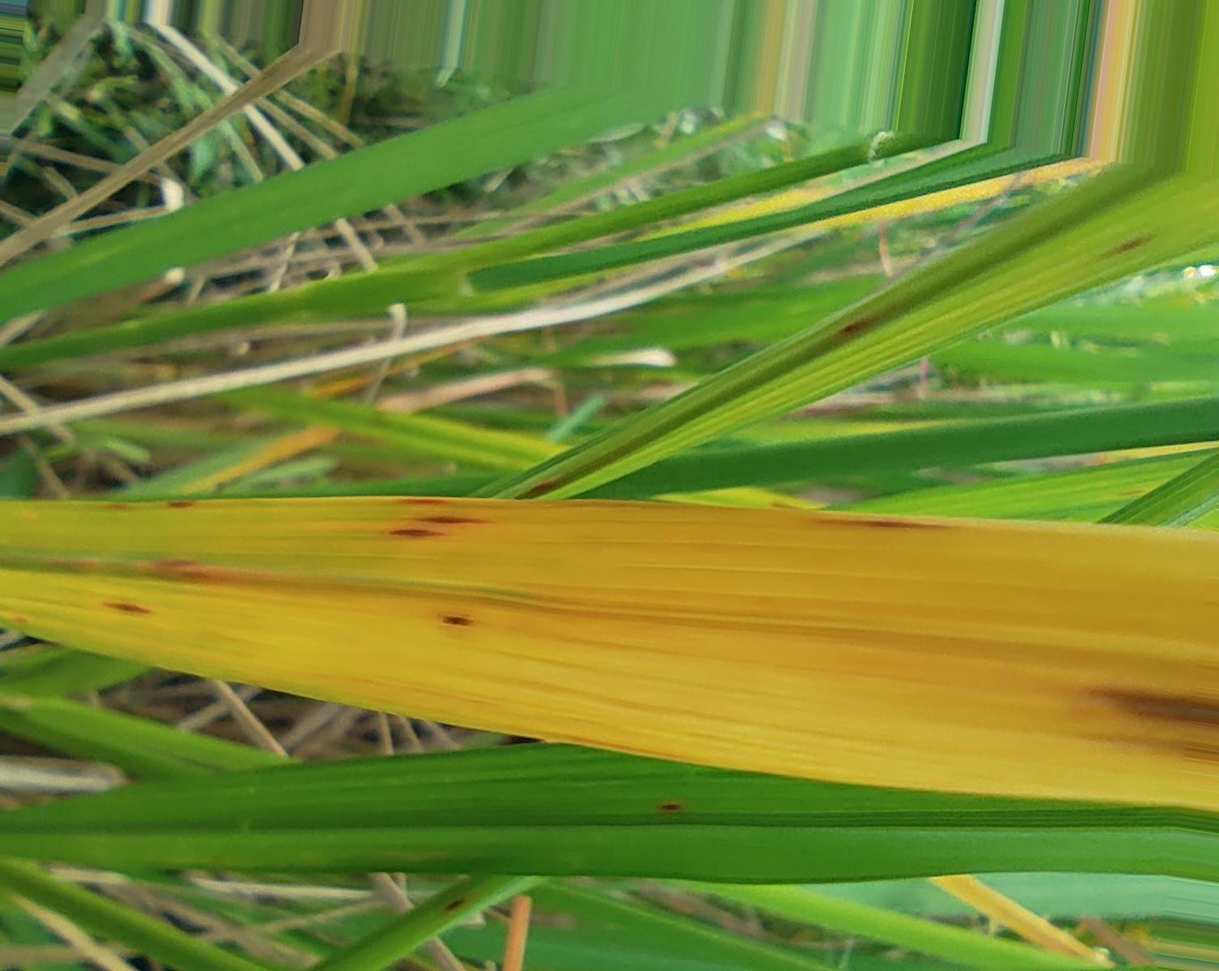LEAF: (0, 494, 1199, 805)
NBS: (811, 519, 950, 529), (404, 516, 494, 523), (386, 528, 445, 537), (103, 602, 150, 611), (440, 615, 475, 626), (151, 558, 194, 566), (392, 499, 449, 504), (99, 502, 130, 509), (181, 571, 210, 577), (168, 503, 193, 508)
